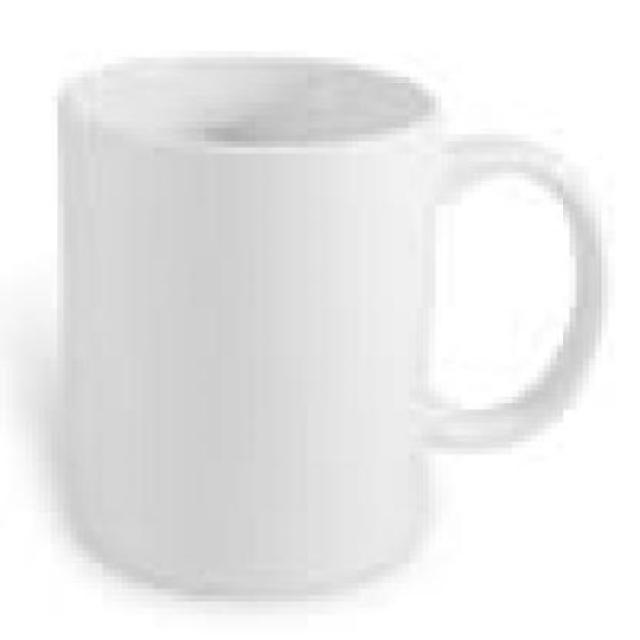cup: (45, 45, 621, 614)
